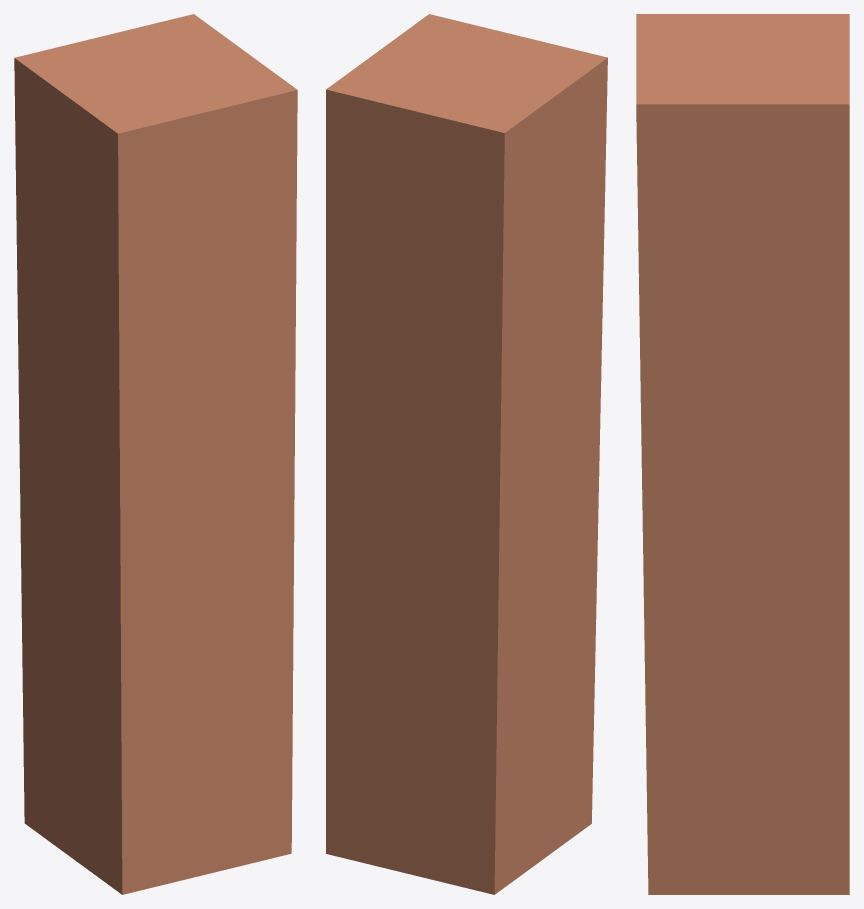
File: Fence End.fbx
The picture shows the model from 3 angles, left to right: view 1: azimuth 30°, elevation 25°; view 2: azimuth 150°, elevation 25°; view 3: azimuth 270°, elevation 25°; orthographic projection. The views are drawn at different scales.
Visible parts, largest first — view 1: pillar; view 2: pillar; view 3: pillar.
Boxes of the visible parts, x1,y1,x2,y2 form: pillar: (14, 14, 297, 894); pillar: (326, 14, 607, 894); pillar: (636, 14, 849, 894).
Size of the model in its own units: 35 by 143 by 35.
1 material, 1 textured.
